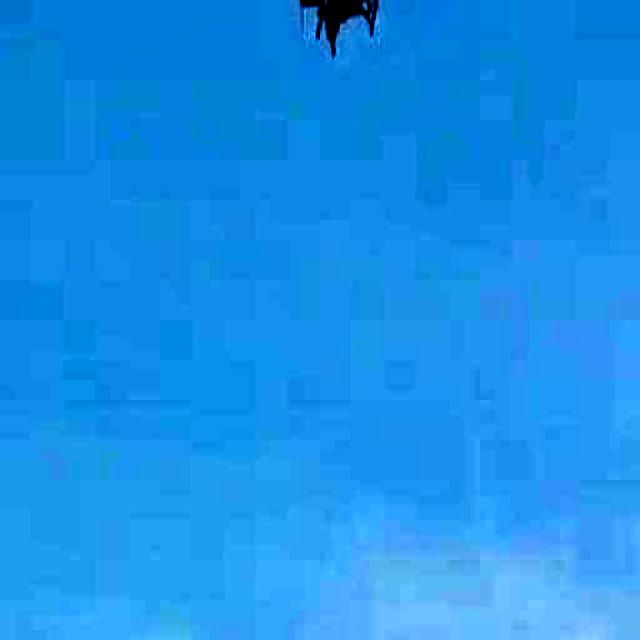drone: (245, 0, 461, 50)
